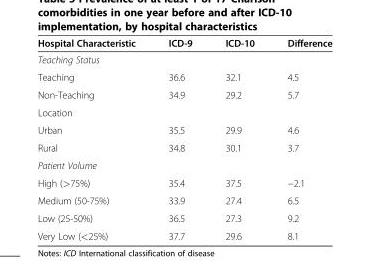table: (36, 36, 331, 241)
table column: (36, 36, 151, 241), (208, 36, 270, 241), (270, 36, 331, 241), (151, 36, 208, 241)
table column header: (36, 36, 331, 50)
table projected row header: (36, 50, 331, 67), (36, 103, 331, 120), (36, 156, 331, 173)
table row: (36, 67, 331, 85), (36, 85, 331, 103), (36, 120, 331, 138), (36, 138, 331, 156), (36, 173, 331, 191), (36, 191, 331, 209), (36, 50, 331, 67), (36, 103, 331, 120), (36, 156, 331, 173), (36, 209, 331, 226), (36, 226, 331, 241), (36, 36, 331, 50)
